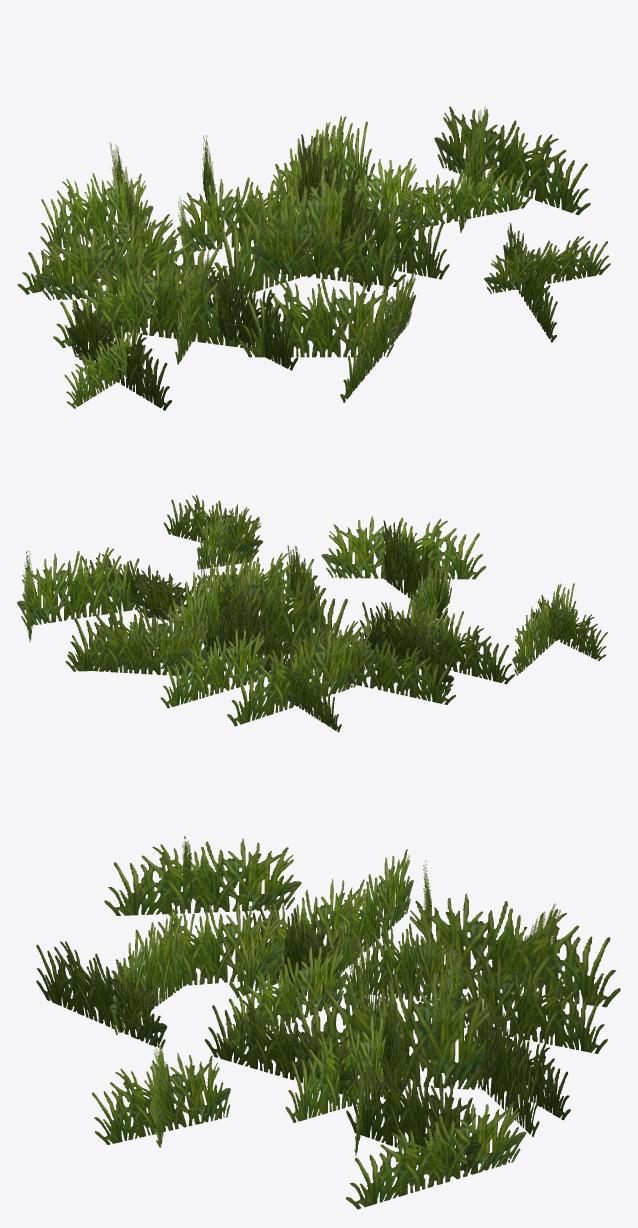
File: DN_grass04b.FBX
3 views of the same model, one above another, from view 1: azimuth 30°, elevation 25°; view 2: azimuth 150°, elevation 25°; view 3: azimuth 270°, elevation 25° (orthographic). The views are drawn at different scales.
Visible parts, largest first — view 1: DN_grass04b; view 2: DN_grass04b; view 3: DN_grass04b.
Boxes of the visible parts, x1,y1,x2,y2 form: DN_grass04b: (17,106,610,410); DN_grass04b: (17,495,607,732); DN_grass04b: (36,836,620,1209).
Bounding box in the file's own units: 166 × 54.56 × 126.
